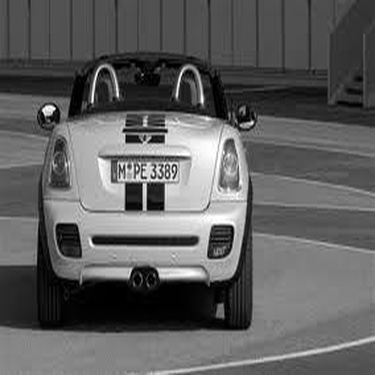car: (22, 35, 270, 340)
